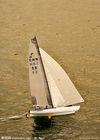fanchuan: (18, 36, 81, 123)
